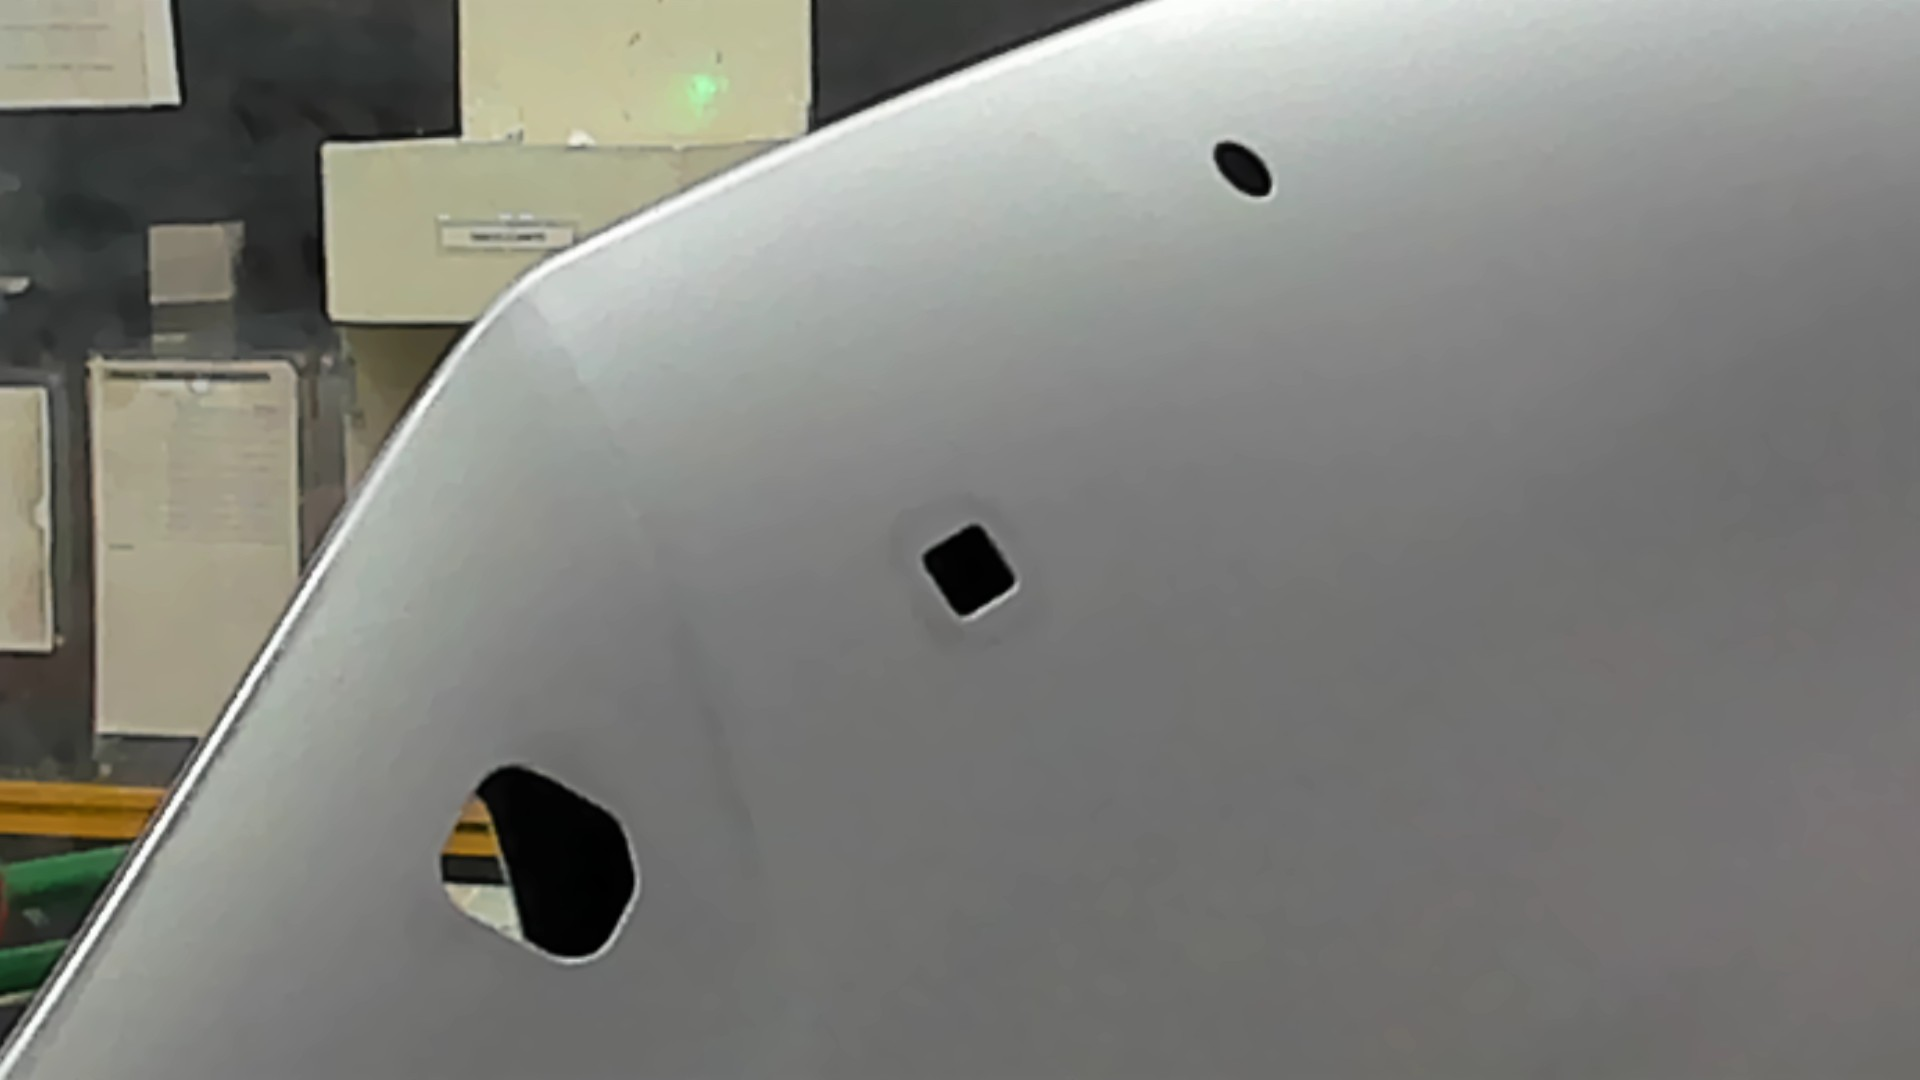chico: (1189, 128, 1298, 215)
grande: (414, 752, 665, 976)
mediano: (898, 505, 1048, 640)
